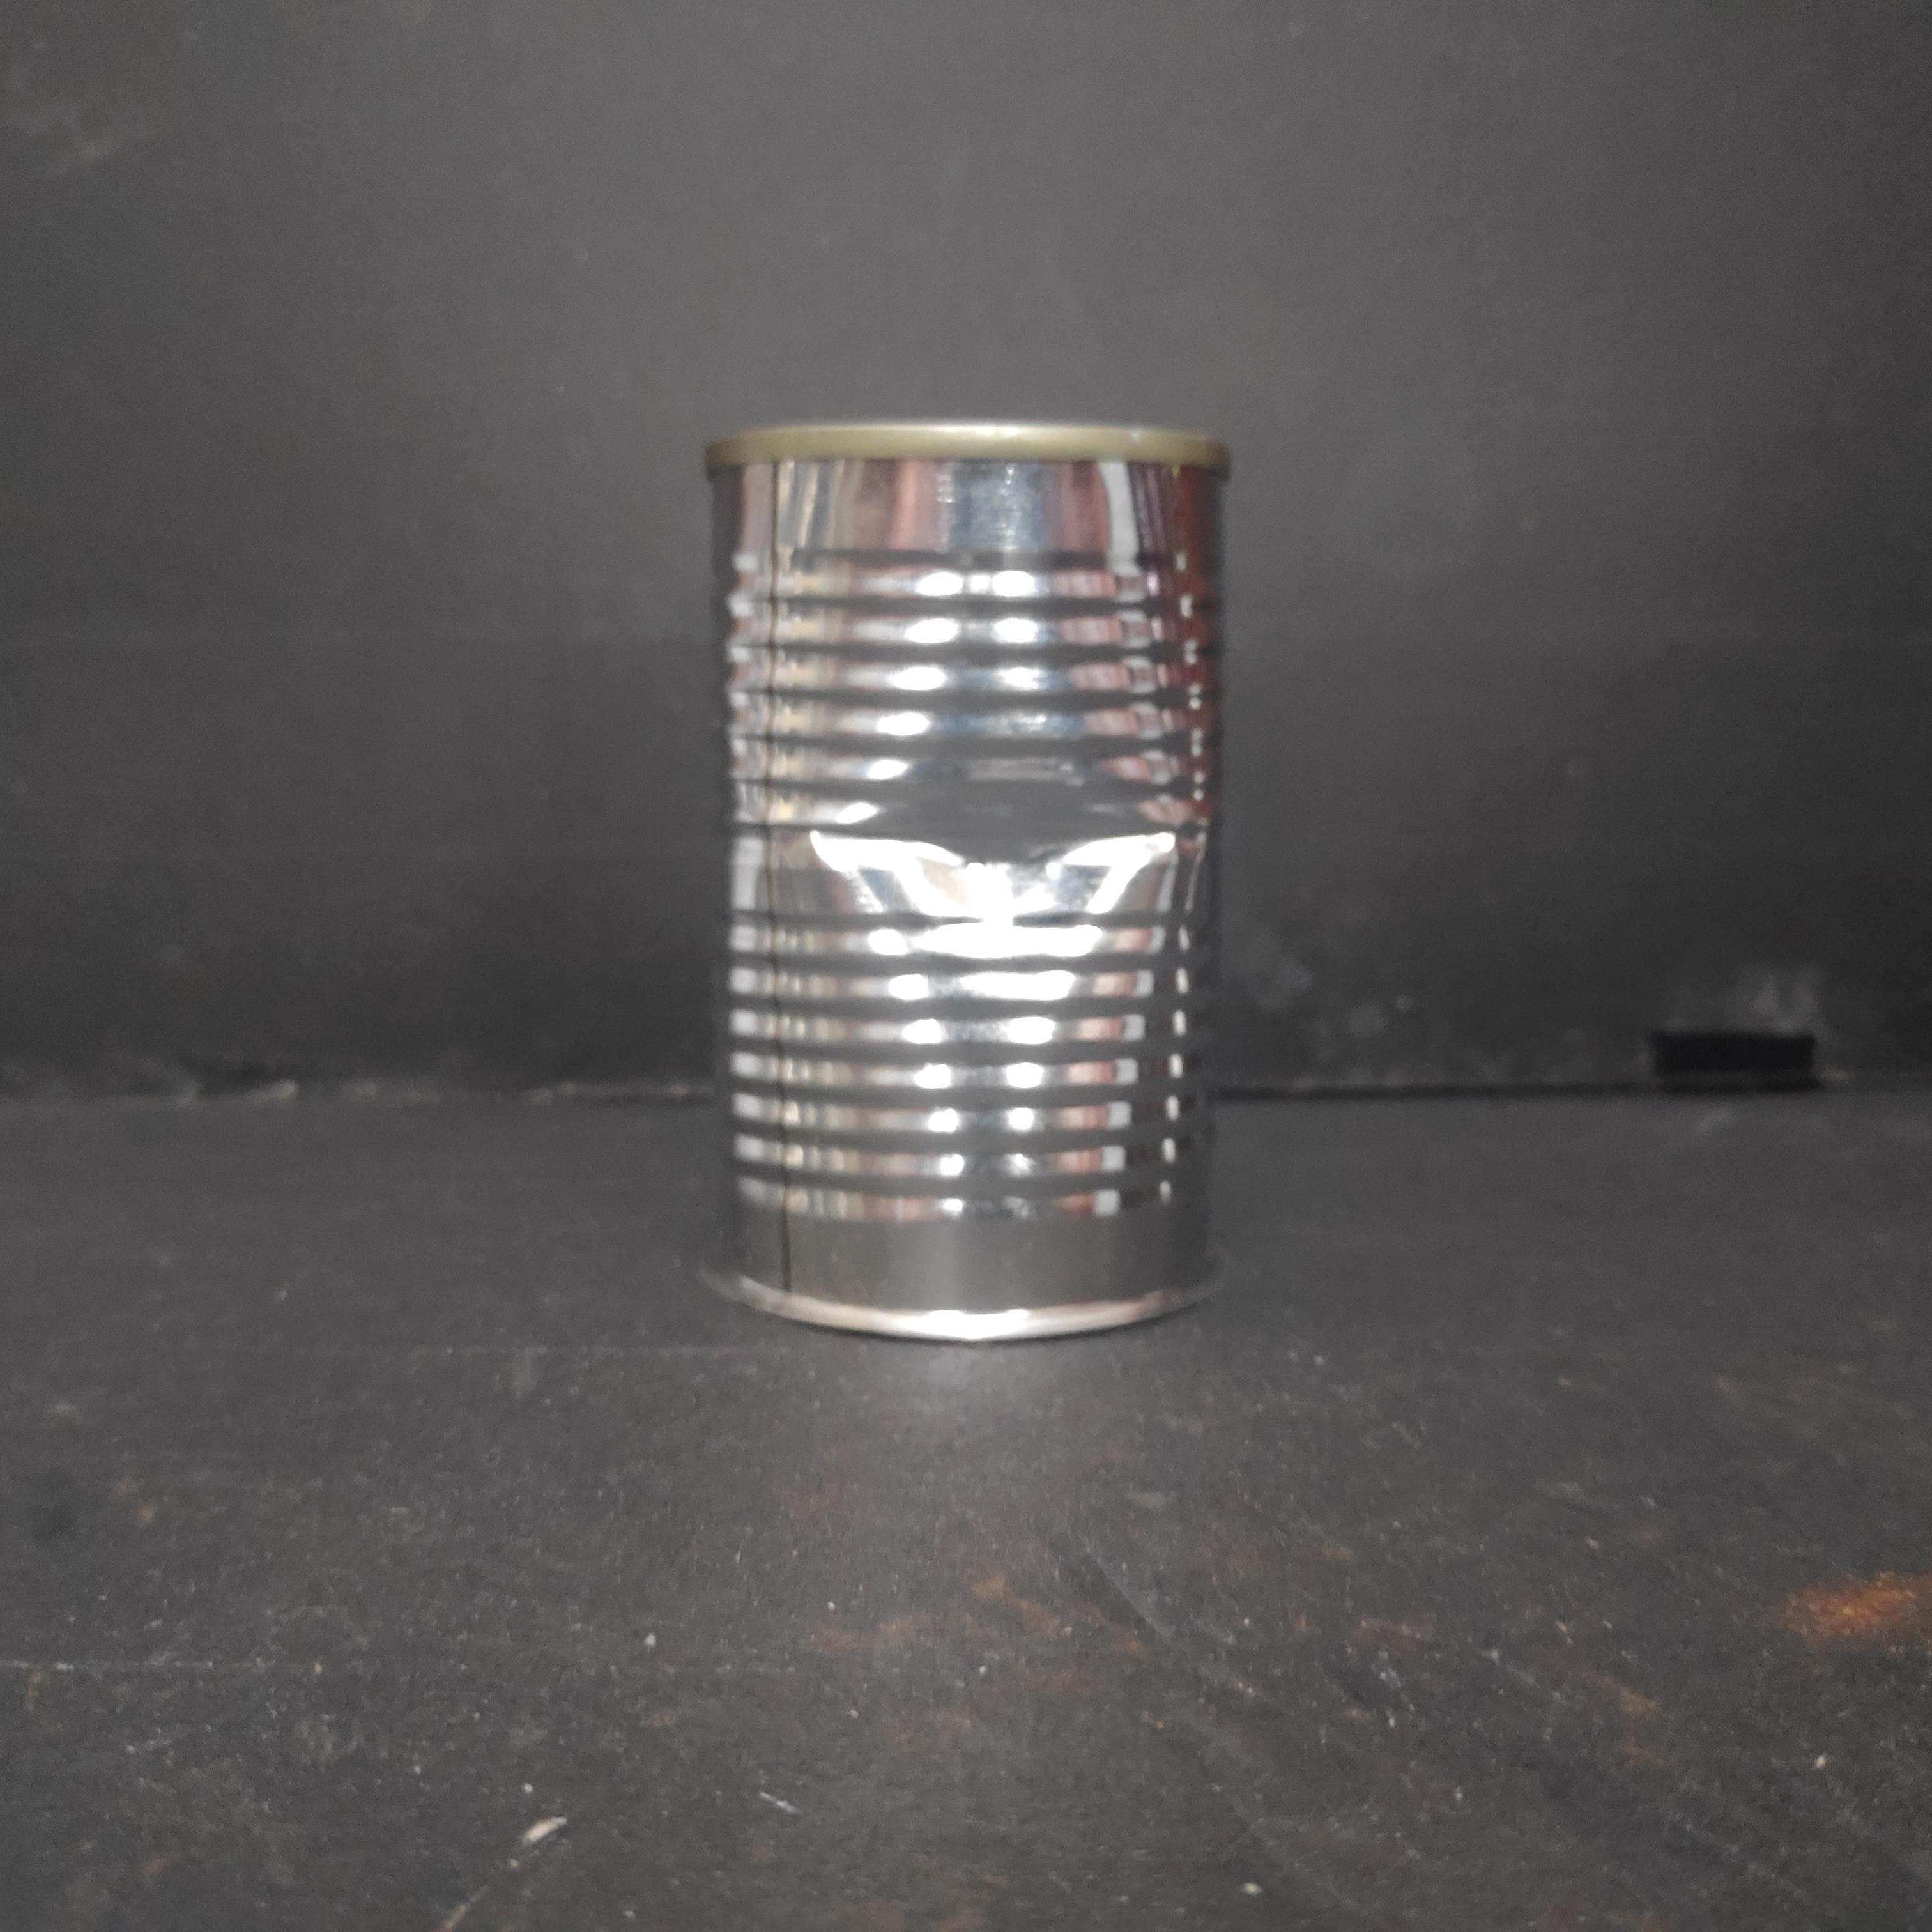Minor Defect: (694, 410, 1237, 1348)
